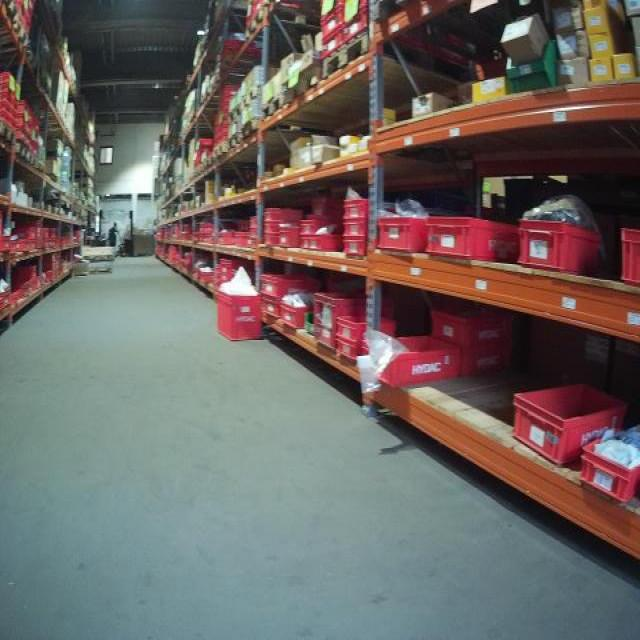pallet: (320, 28, 492, 87), (243, 2, 322, 43), (2, 2, 34, 60), (285, 62, 322, 112), (238, 82, 276, 110), (260, 94, 285, 128), (239, 112, 263, 146), (7, 142, 33, 167), (1, 119, 18, 147), (30, 153, 46, 173)
pallet_truck: (84, 204, 110, 245), (118, 204, 136, 258)
small_load_carrier: (500, 372, 632, 469), (515, 209, 608, 274), (575, 427, 639, 504), (370, 336, 460, 387), (313, 293, 388, 348), (424, 218, 515, 257), (427, 302, 518, 338), (216, 282, 264, 342), (456, 338, 518, 377), (616, 218, 639, 298), (338, 312, 396, 343), (376, 217, 424, 251), (261, 272, 328, 296), (332, 341, 397, 360), (310, 195, 346, 229), (277, 292, 303, 331), (11, 261, 39, 295), (341, 14, 368, 48), (337, 1, 367, 29), (340, 193, 376, 216), (340, 216, 376, 238), (274, 221, 298, 252), (292, 235, 334, 252), (264, 297, 287, 327), (322, 7, 344, 37), (322, 29, 342, 61), (258, 203, 286, 221), (340, 238, 364, 257), (292, 216, 320, 230), (214, 256, 235, 274), (261, 233, 280, 250), (216, 272, 235, 287), (261, 221, 284, 233), (20, 227, 39, 240), (2, 231, 11, 257), (217, 231, 233, 244), (235, 232, 249, 246), (248, 214, 258, 226), (249, 226, 258, 237), (249, 237, 257, 249)
